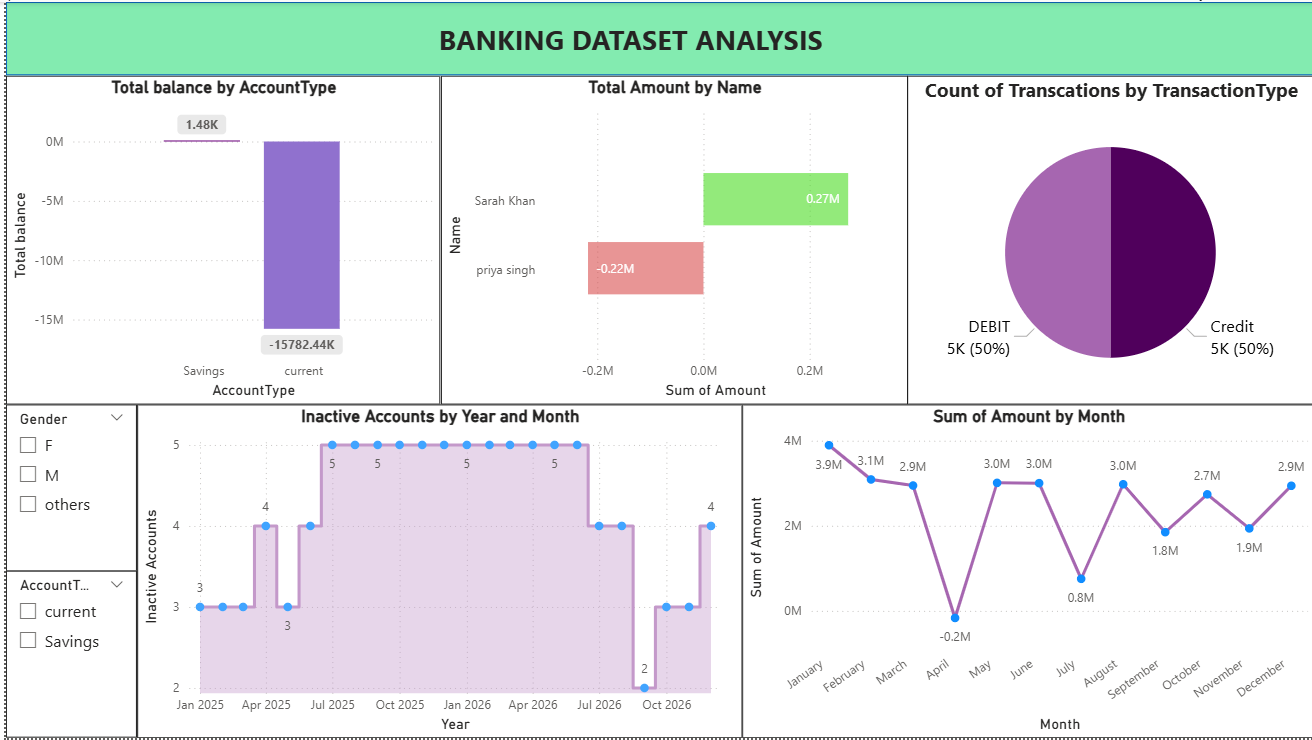

The dashboard page shown, as its layout file describes it:
{"tool":"powerbi","page":{"name":"Page 1","canvas":[1280,720],"ordinal":0},"visuals":[{"type":"pieChart","fields":{"Category":["CombinedBankingDataset.TransactionType"],"Y":["Measures Table.Count of Transcations"]},"box":[881.7,71.7,398.3,321.7],"z":0},{"type":"lineChart","fields":{"Category":["CombinedBankingDataset.TransactionDate.Variation.Date Hierarchy.Month"],"Y":["Sum(CombinedBankingDataset.Amount)"]},"box":[720,393.3,560,326.7],"z":1000},{"type":"barChart","title":"Total Amount by Name","fields":{"Category":["CombinedBankingDataset.Name"],"Y":["Sum(CombinedBankingDataset.Amount)"]},"box":[425,71.7,456.7,321.7],"z":2000},{"type":"clusteredColumnChart","fields":{"Category":["CombinedBankingDataset.AccountType"],"Y":["Measures Table.Total balance"]},"box":[0,71.7,425,321.7],"z":3000},{"type":"lineChart","fields":{"Y":["Measures Table.Inactive Accounts"],"Category":["CombinedBankingDataset.TransactionDate.Variation.Date Hierarchy.Year","CombinedBankingDataset.TransactionDate.Variation.Date Hierarchy.Month"]},"box":[128.3,393.3,591.7,326.7],"z":4000},{"type":"shape","box":[0,0,1280,71.7],"z":5000},{"type":"textbox","box":[330,13.3,501.7,45],"z":6000},{"type":"slicer","fields":{"Values":["CombinedBankingDataset.Gender"]},"box":[0,393.3,128.3,163.3],"z":7000},{"type":"slicer","fields":{"Values":["CombinedBankingDataset.AccountType"]},"box":[0,556.7,128.3,163.3],"z":8000}]}

Visuals, with their boxes in screenshot pixels (x1, y1, x2, y2), scaled from the page's 1280x720 canvas onto the 1312x740 screenshot:
pieChart - CombinedBankingDataset.TransactionType x Measures Table.Count of Transcations: {"x1": 904, "y1": 74, "x2": 1311, "y2": 404}
lineChart - CombinedBankingDataset.TransactionDate.Variation.Date Hierarchy.Month x Sum(CombinedBankingDataset.Amount): {"x1": 738, "y1": 404, "x2": 1311, "y2": 739}
"Total Amount by Name" barChart: {"x1": 436, "y1": 74, "x2": 904, "y2": 404}
clusteredColumnChart - CombinedBankingDataset.AccountType x Measures Table.Total balance: {"x1": 0, "y1": 74, "x2": 436, "y2": 404}
lineChart - Measures Table.Inactive Accounts x CombinedBankingDataset.TransactionDate.Variation.Date Hierarchy.Year: {"x1": 132, "y1": 404, "x2": 738, "y2": 739}
shape: {"x1": 0, "y1": 0, "x2": 1311, "y2": 74}
textbox: {"x1": 338, "y1": 14, "x2": 852, "y2": 60}
slicer - CombinedBankingDataset.Gender: {"x1": 0, "y1": 404, "x2": 132, "y2": 572}
slicer - CombinedBankingDataset.AccountType: {"x1": 0, "y1": 572, "x2": 132, "y2": 739}
